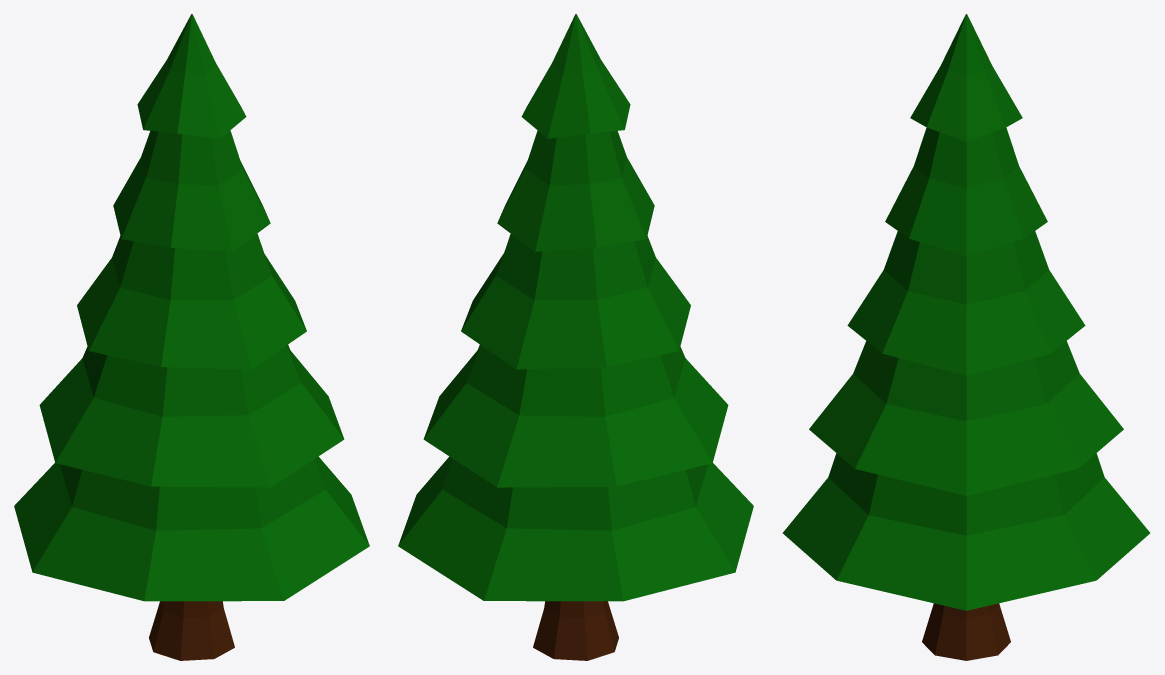
Rendered from Tree2.fbx.
The picture shows the model from 3 angles, left to right: view 1: azimuth 30°, elevation 25°; view 2: azimuth 150°, elevation 25°; view 3: azimuth 270°, elevation 25°; orthographic projection.
Visible parts, largest first — view 1: Sosna; view 2: Sosna; view 3: Sosna.
Part boxes in pixels (x1,y1,x2,y2): Sosna: (14, 14, 369, 660); Sosna: (398, 14, 753, 660); Sosna: (782, 14, 1150, 660).
Bounding box in the file's own units: 1065 × 2005 × 1065.
